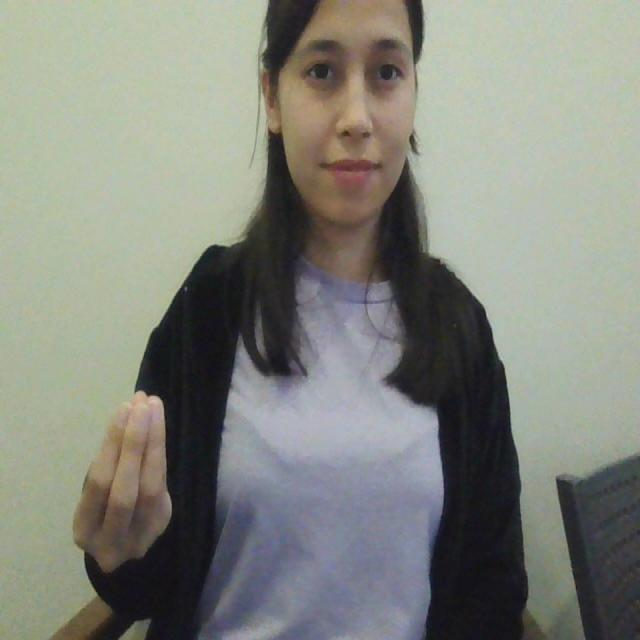iyi: (73, 381, 177, 577)
